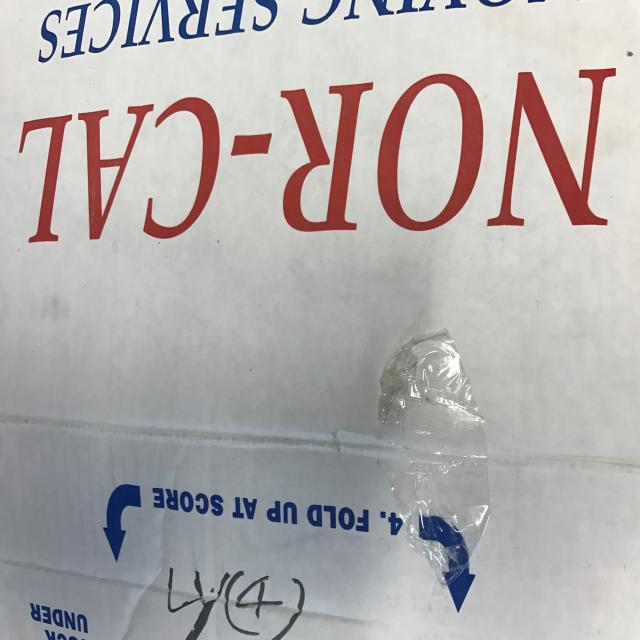cardboard: (0, 0, 640, 640), (0, 49, 640, 640)
